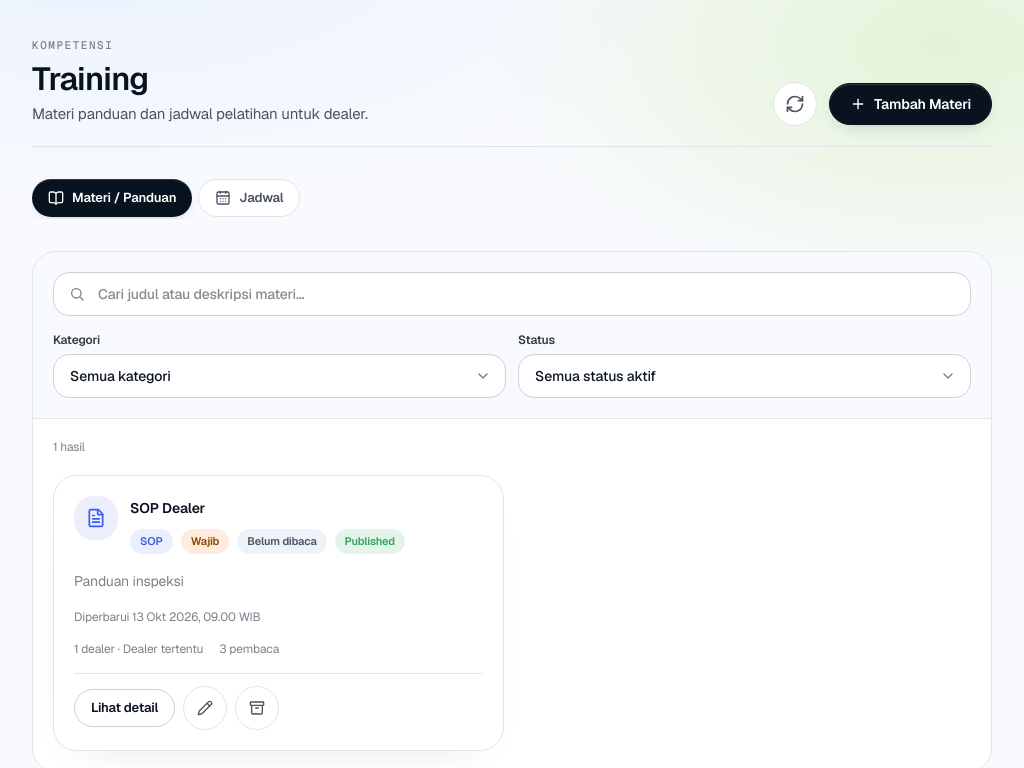
Test: Training role flows › keeps unread status on content failure and closes the blank popup
Click the button "Lihat detail". click: (125, 708)
box: [74,689,175,727]
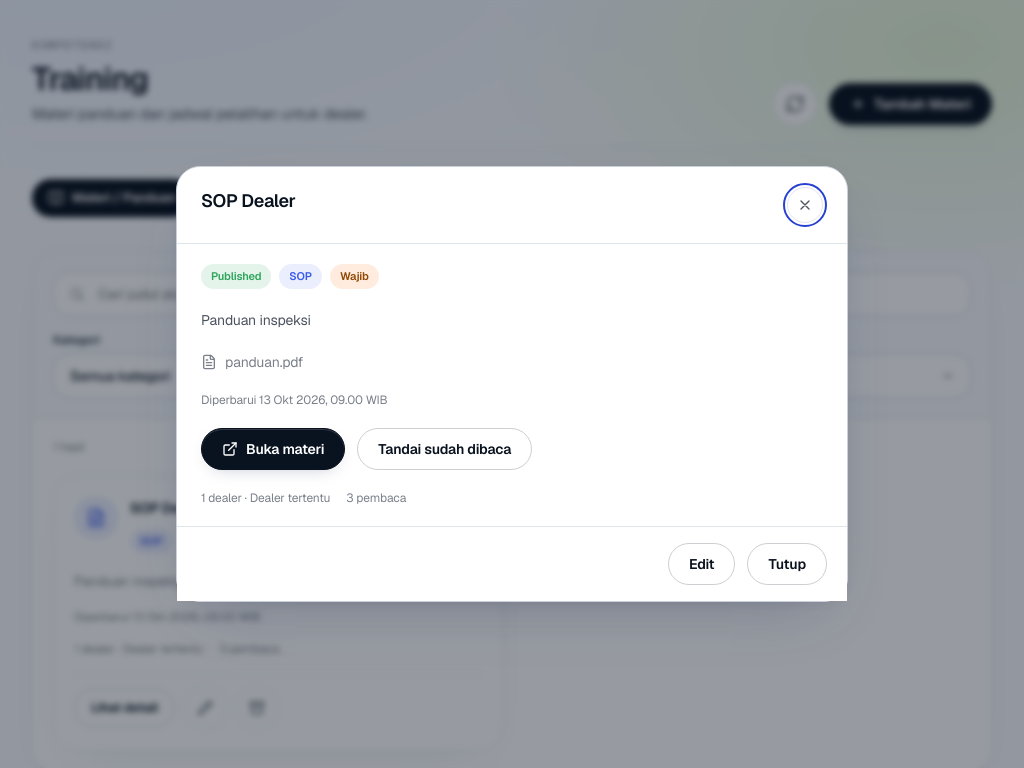
Click the button "Buka materi". click: (273, 449)
box: [201,428,345,470]
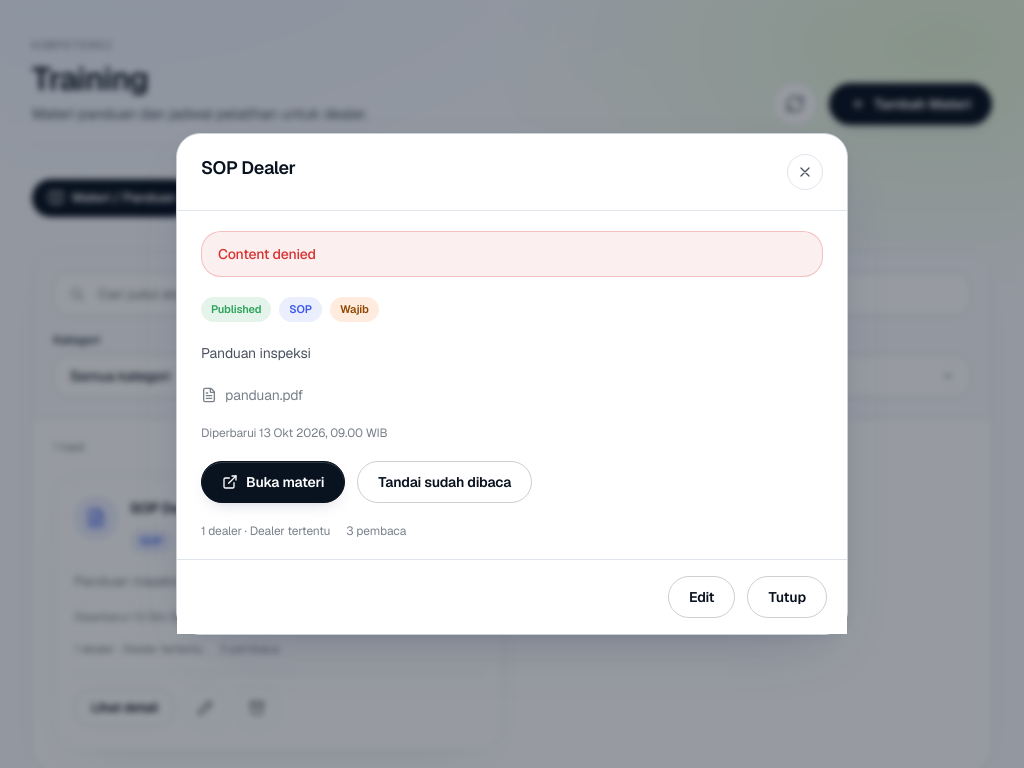
expect the text "Content denied" is shown: met, box [218,244,316,264]
